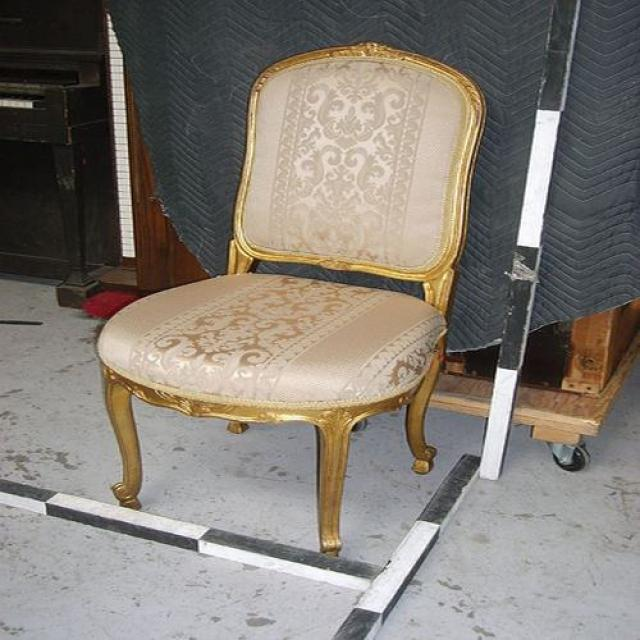chair: (95, 44, 486, 558)
